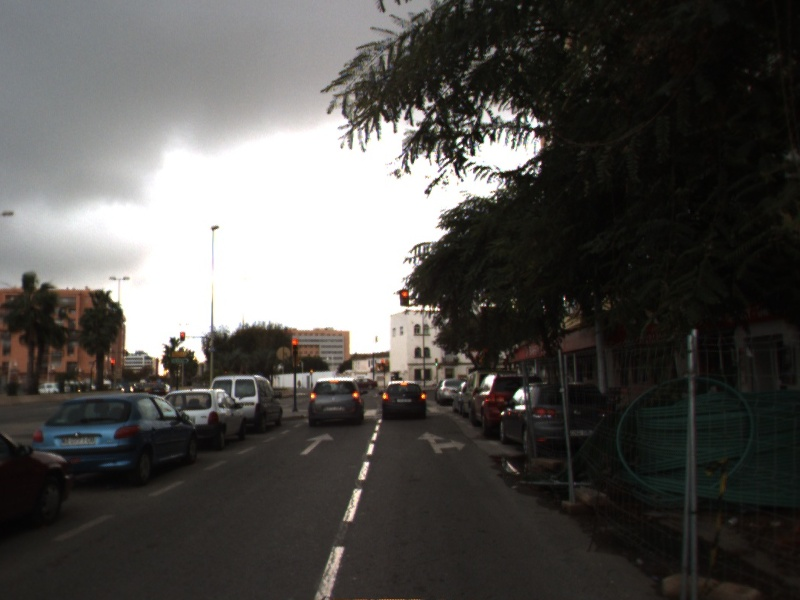STRAIGHT: (299, 431, 336, 456)
STRAIGHT_RIGHT: (417, 430, 467, 455)
